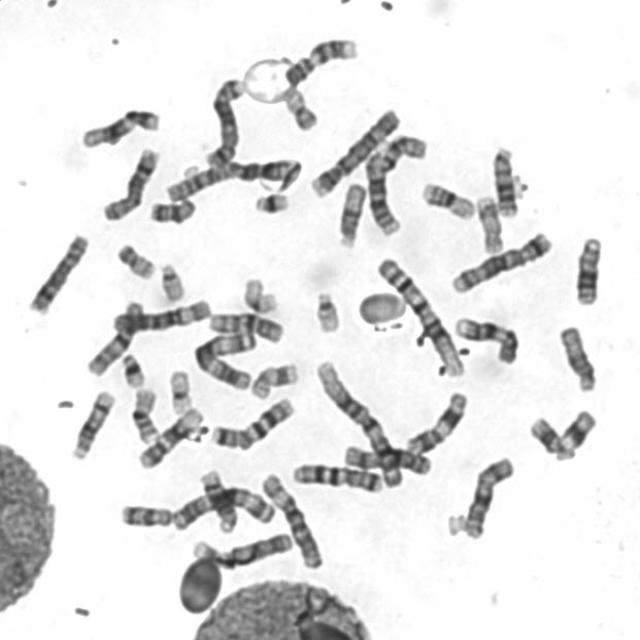A1: (314, 358, 405, 490), (374, 258, 467, 378)
A2: (365, 133, 429, 239), (164, 157, 303, 204)
A3: (171, 484, 279, 532), (192, 332, 256, 393)
B4: (308, 105, 400, 199), (190, 532, 294, 572)
B5: (449, 231, 556, 293), (203, 77, 246, 170)
C10: (86, 300, 146, 377), (208, 310, 284, 344)
C11: (406, 391, 471, 456), (530, 409, 603, 455)
C12: (139, 407, 204, 471), (79, 107, 164, 150)
C6: (258, 471, 326, 573), (112, 298, 214, 332)
C7: (208, 396, 296, 454), (290, 460, 384, 498)
C8: (26, 233, 90, 316), (100, 147, 162, 223)
C9: (284, 35, 358, 87), (452, 316, 520, 364)
D13: (571, 235, 602, 311), (488, 144, 520, 217)
D14: (71, 390, 115, 460), (197, 467, 239, 536)
D15: (556, 324, 598, 394), (334, 181, 368, 249)
E16: (419, 182, 475, 221), (131, 388, 163, 445)
E17: (250, 361, 303, 400), (475, 195, 505, 254)
E18: (119, 502, 172, 532), (148, 198, 201, 226)
F19: (241, 275, 278, 315), (166, 366, 193, 414)
F20: (114, 243, 157, 280), (284, 91, 318, 132)
G21: (251, 191, 295, 218), (118, 352, 148, 390)
G22: (309, 290, 341, 334), (156, 262, 186, 304)
X: (462, 455, 518, 539), (343, 444, 432, 478)
